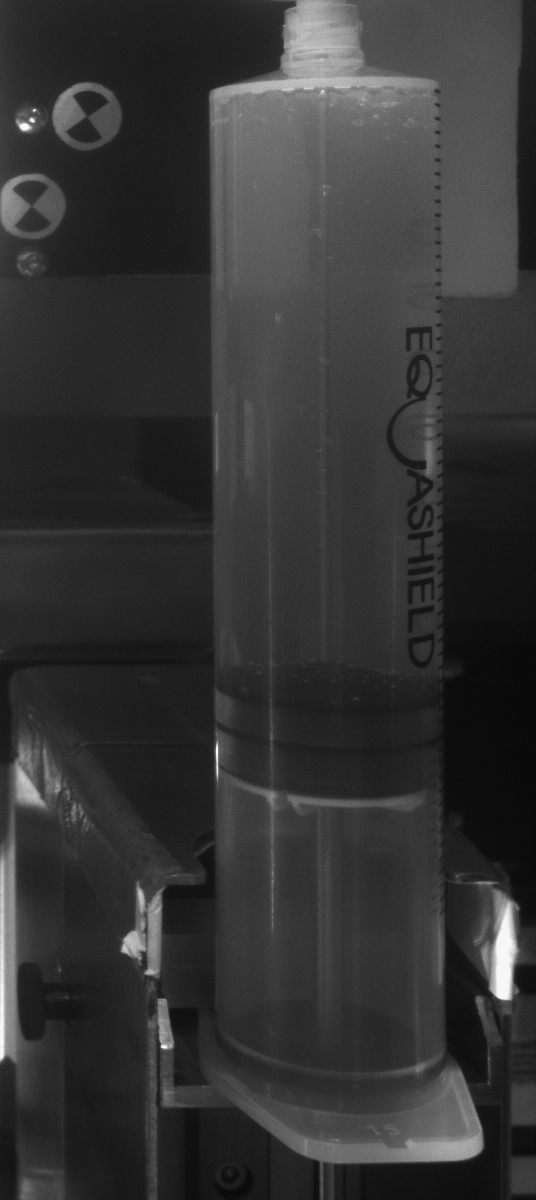piston: (212, 688, 448, 818)
